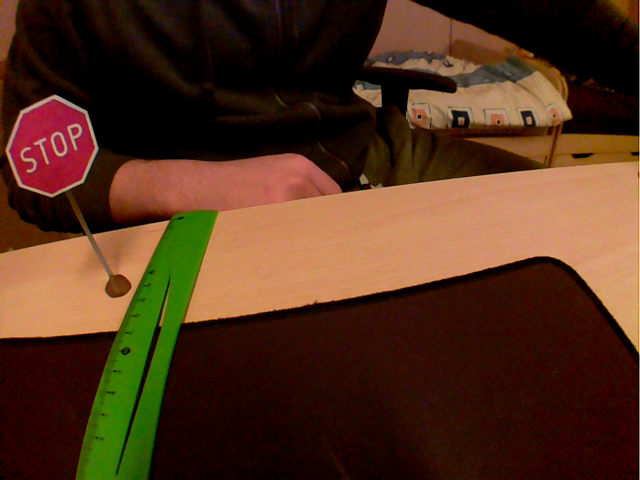Stop: (1, 89, 105, 202)
